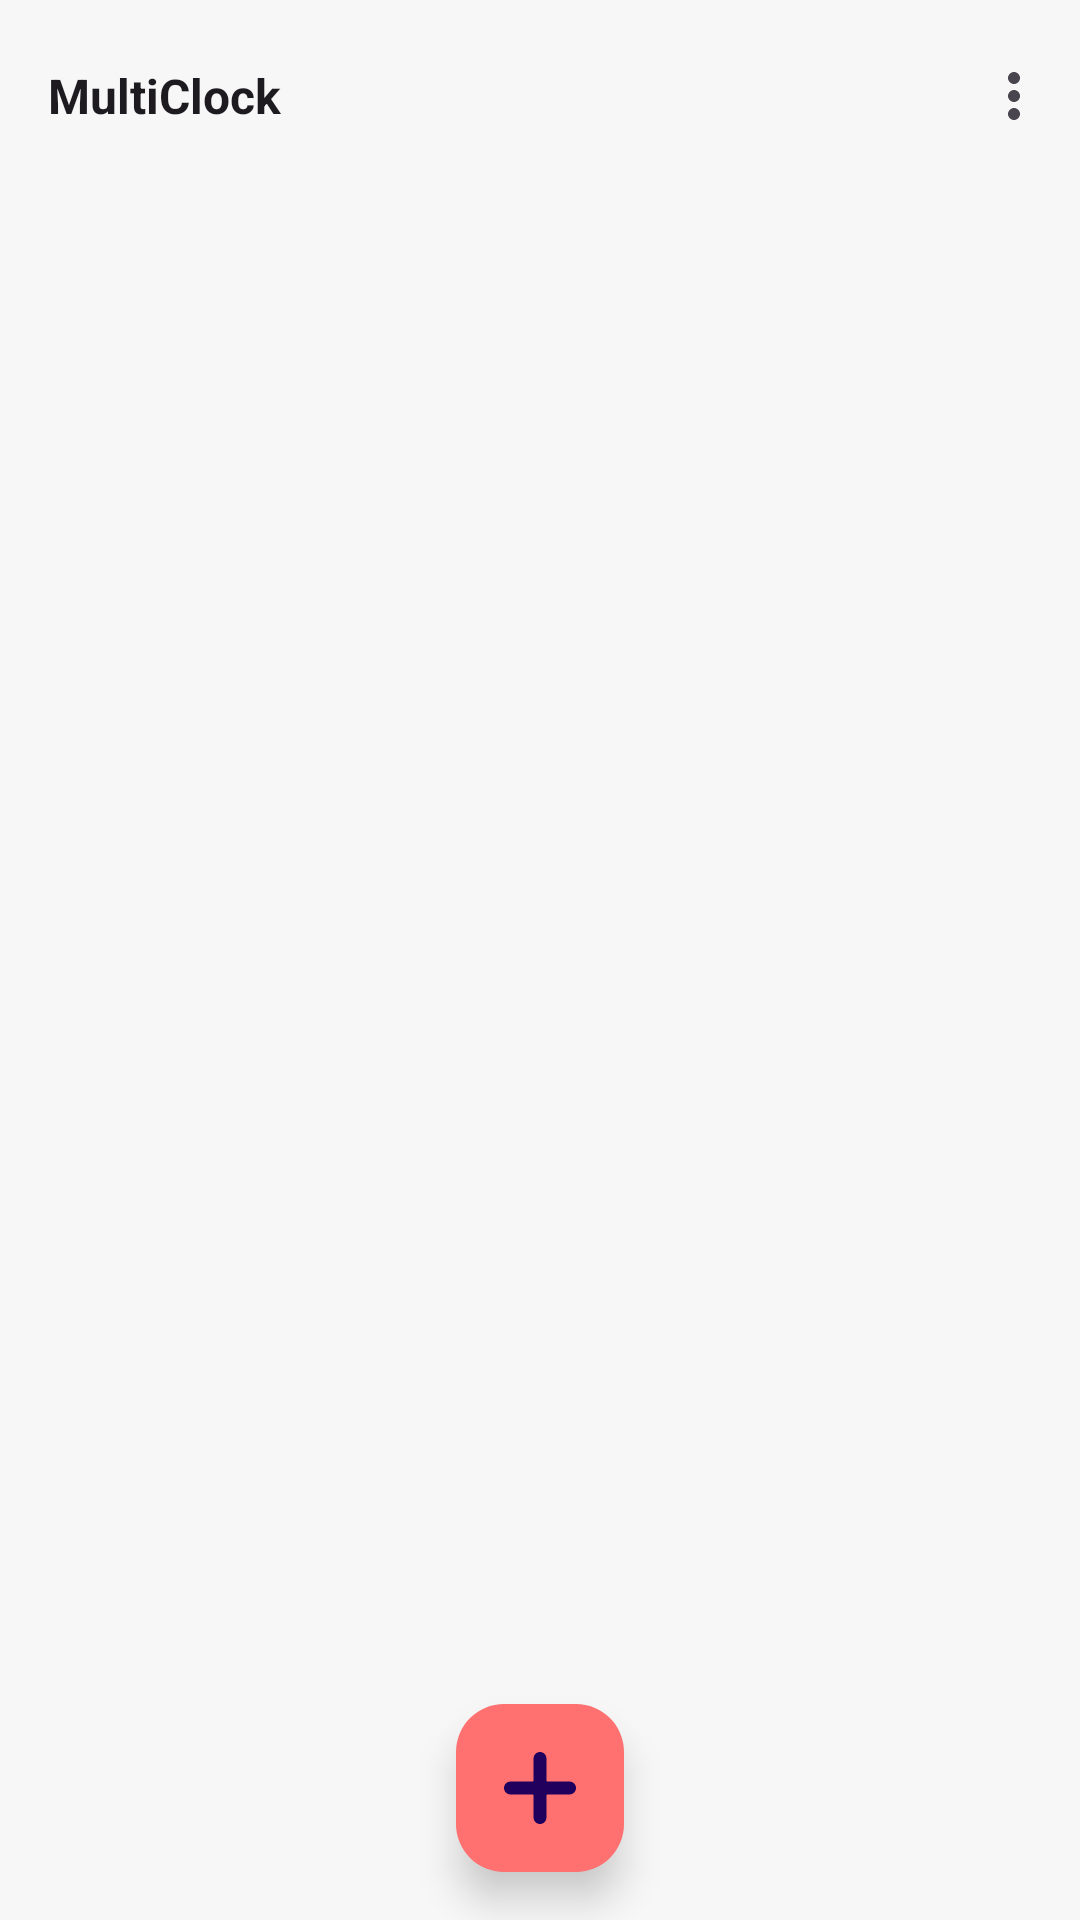

Named icons in this screenshot (1080w x 1920h) and their bounding boxes, Rect(x1, y1, x2, y2):
Create Alarm: Rect(456, 1704, 624, 1872)
